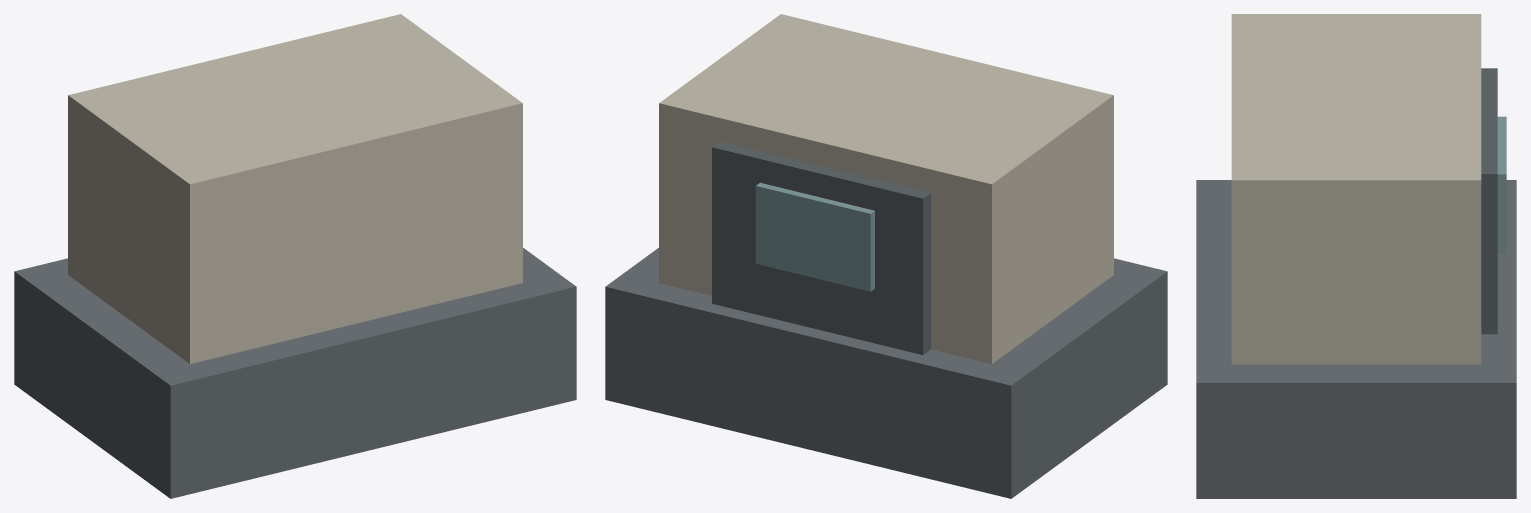
The model's file is iz3_environment_crate_01.glb.
3 views of the same model, side by side, from view 1: azimuth 30°, elevation 25°; view 2: azimuth 150°, elevation 25°; view 3: azimuth 270°, elevation 25° (orthographic). The views are drawn at different scales.
Visible parts, largest first — view 1: cabinet, base; view 2: cabinet, base, panel, display; view 3: cabinet, base, panel, display.
Boxes of the visible parts, box(x1,y1,x2,y2) form: cabinet: box(68, 14, 522, 363); base: box(14, 248, 576, 498); cabinet: box(659, 14, 1113, 363); base: box(605, 248, 1167, 498); panel: box(712, 141, 930, 354); display: box(755, 182, 874, 291); cabinet: box(1231, 14, 1481, 364); base: box(1196, 180, 1516, 498); panel: box(1481, 68, 1497, 334); display: box(1497, 116, 1506, 253).
Bounding box in the file's own units: 1.2 × 0.828 × 0.8.
